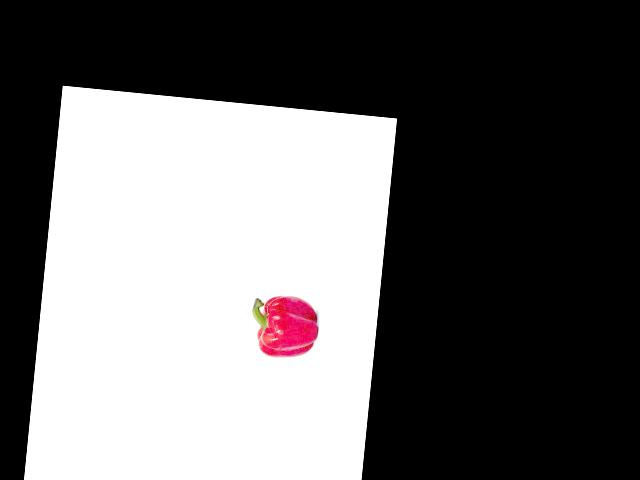bell_pepper: (246, 290, 320, 364)
